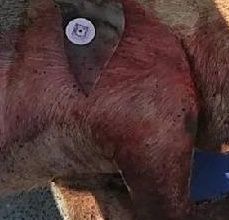text: (55, 6, 105, 54)
